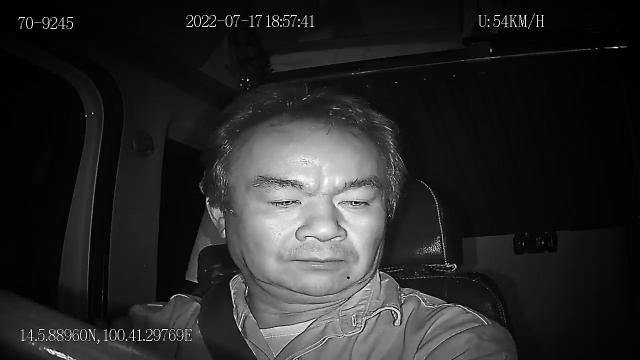SafeDriving: (254, 185, 310, 214), (328, 185, 382, 214)
Seatbelt: (197, 278, 261, 360)
